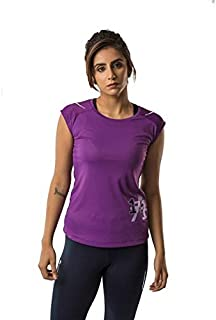tshirt: (51, 96, 171, 248)
